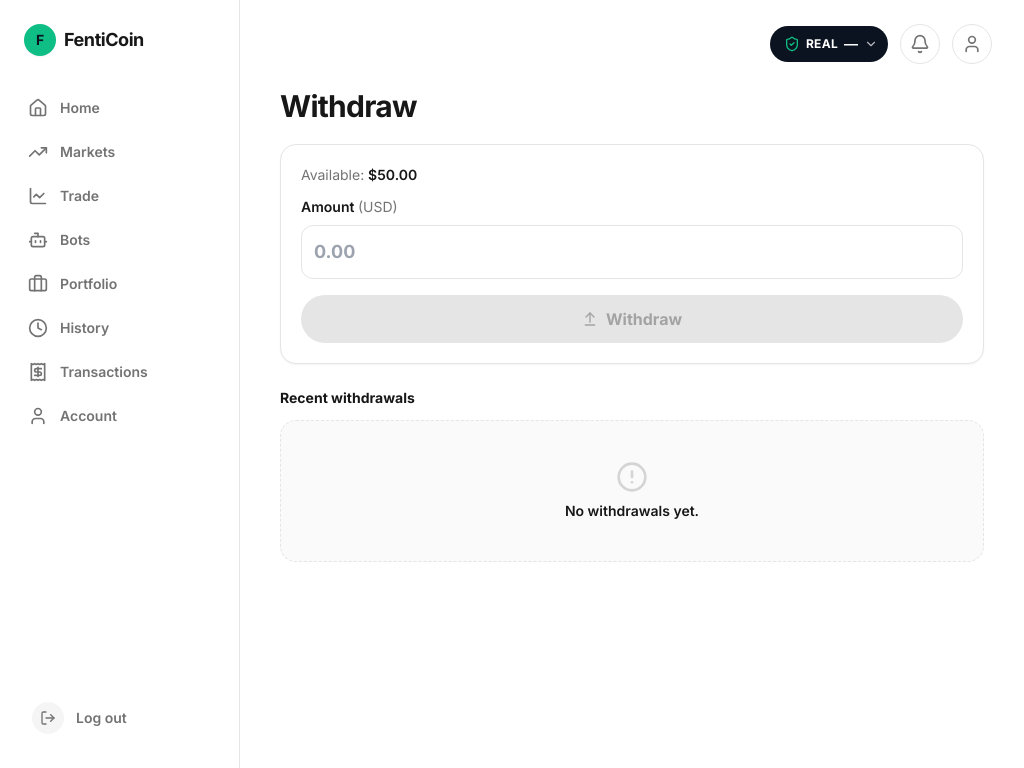
Scenario: WithdrawPage › shows an honest notice when the payment provider is not configured yet
The width and height of the screenshot is (1024, 768).
Expected: the text "$50.00" is shown, [368, 166, 417, 183]
Type "25" into the field with placeholder "0.00" at coordinates (632, 252), box [301, 225, 963, 279]
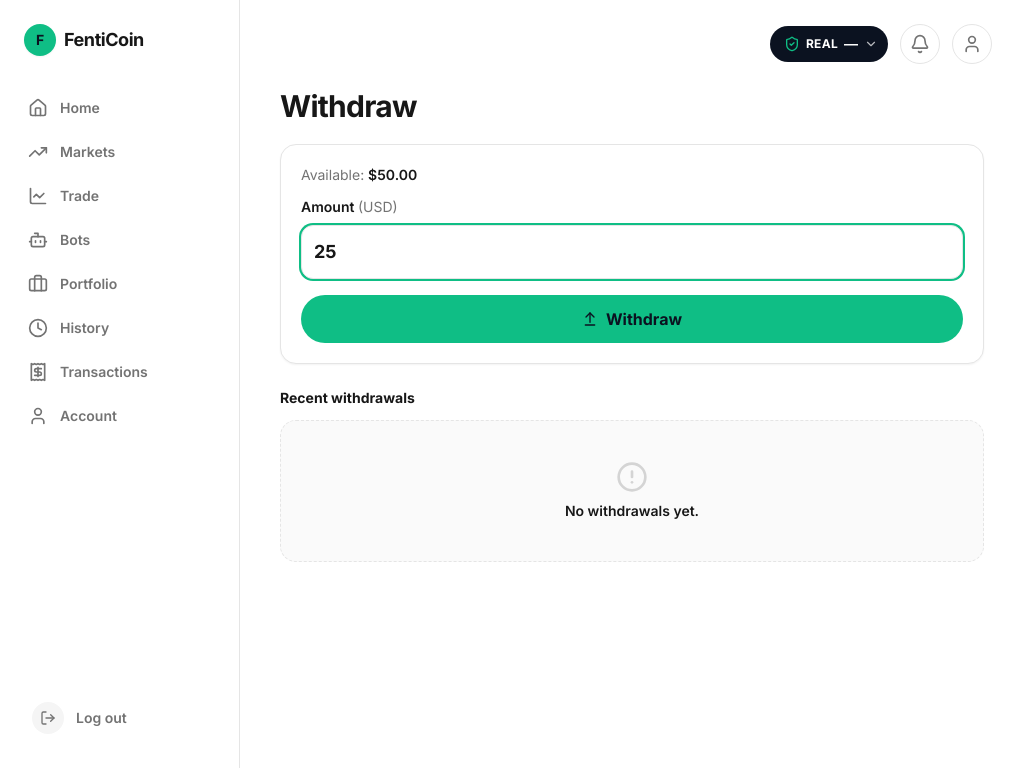
Click the button "Withdraw" at coordinates (632, 319), box [301, 295, 963, 343]
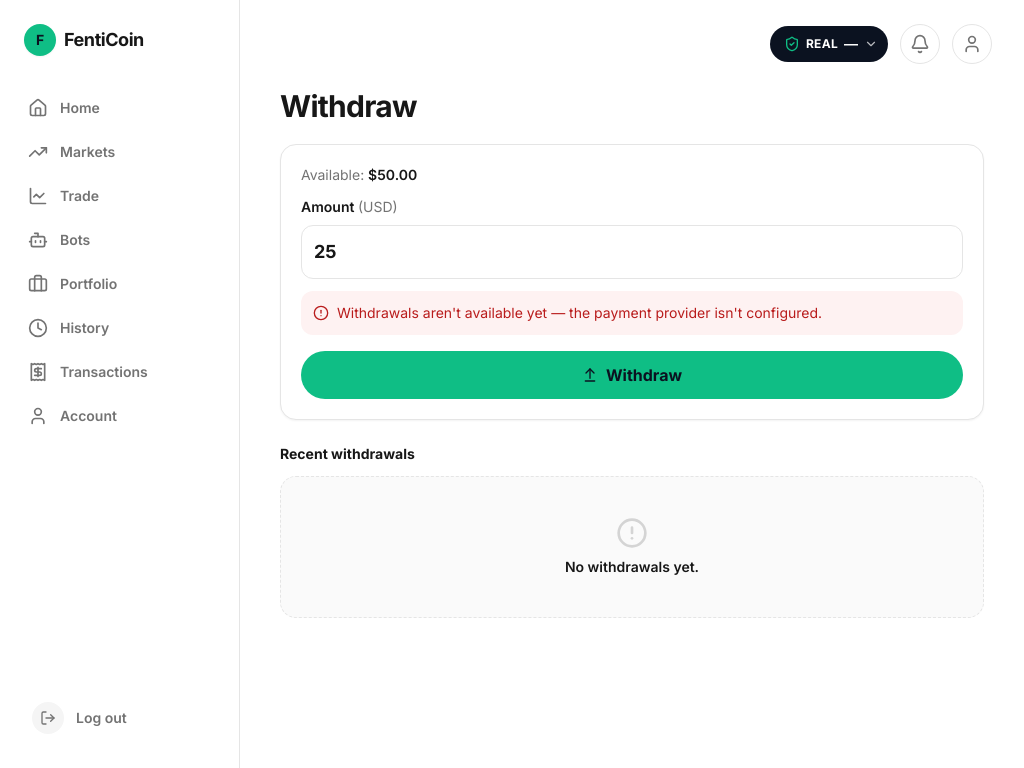
Now the text "Withdrawals aren't available yet — the payment provider isn't configured." is shown, box [301, 291, 963, 335]
